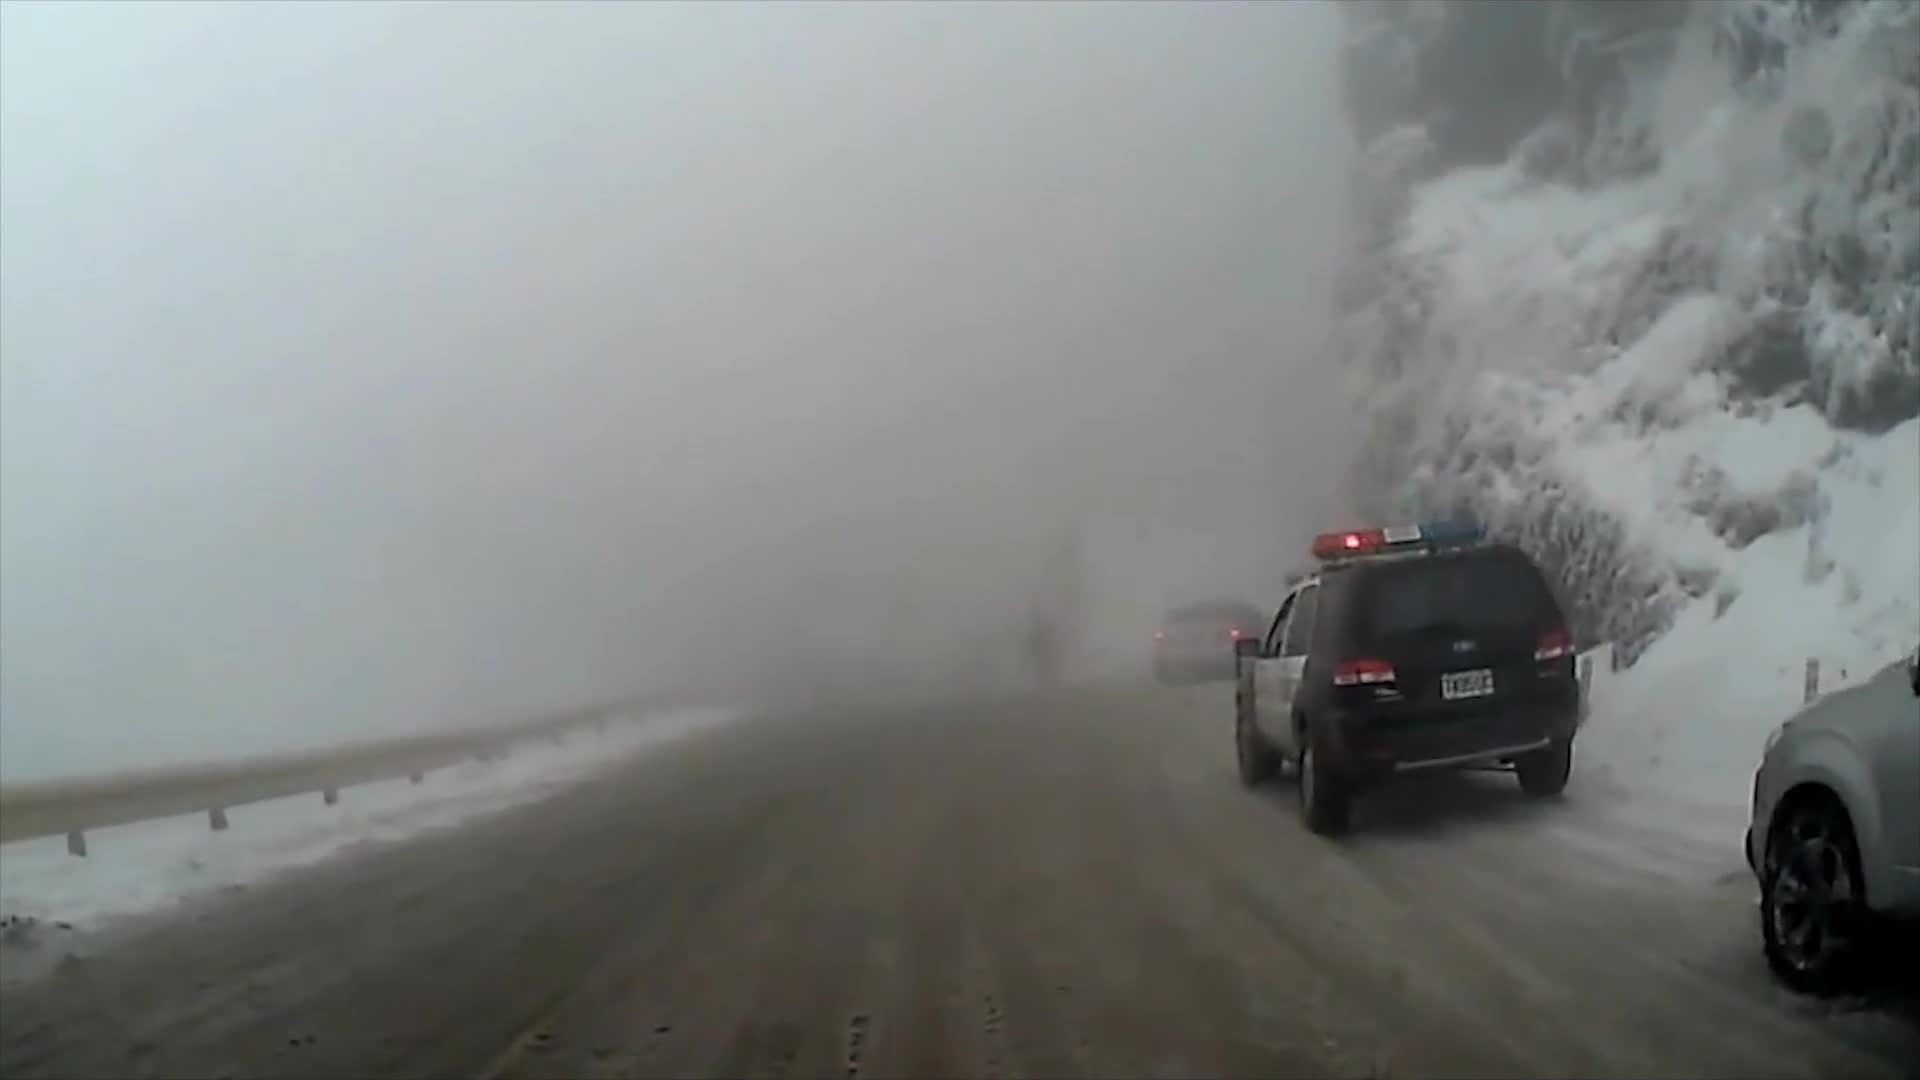vehicle: (1232, 514, 1582, 841), (1741, 641, 1920, 996), (1150, 601, 1271, 690)
